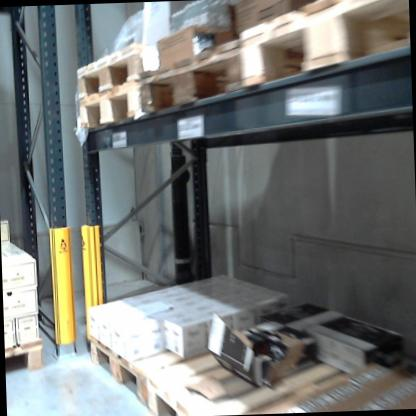pallet: (72, 272, 306, 403), (145, 312, 416, 414), (230, 0, 412, 111), (137, 27, 247, 129), (63, 26, 143, 96), (72, 72, 147, 141), (5, 318, 50, 379), (409, 81, 410, 86)
